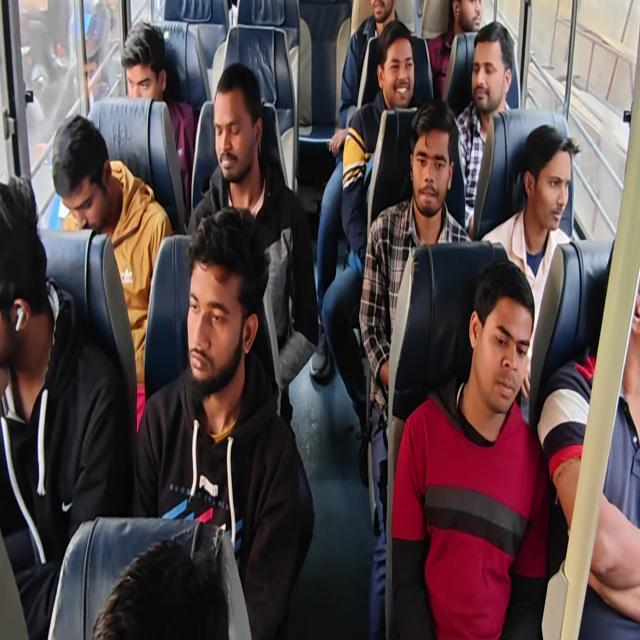person: (1, 2, 638, 638), (133, 204, 314, 638), (358, 98, 473, 637), (390, 258, 550, 638), (0, 173, 131, 637), (186, 61, 319, 425), (321, 20, 422, 484), (51, 114, 174, 432), (537, 281, 639, 638), (480, 123, 580, 402), (120, 19, 194, 215), (450, 20, 515, 236), (91, 538, 230, 639), (427, 0, 482, 101)
